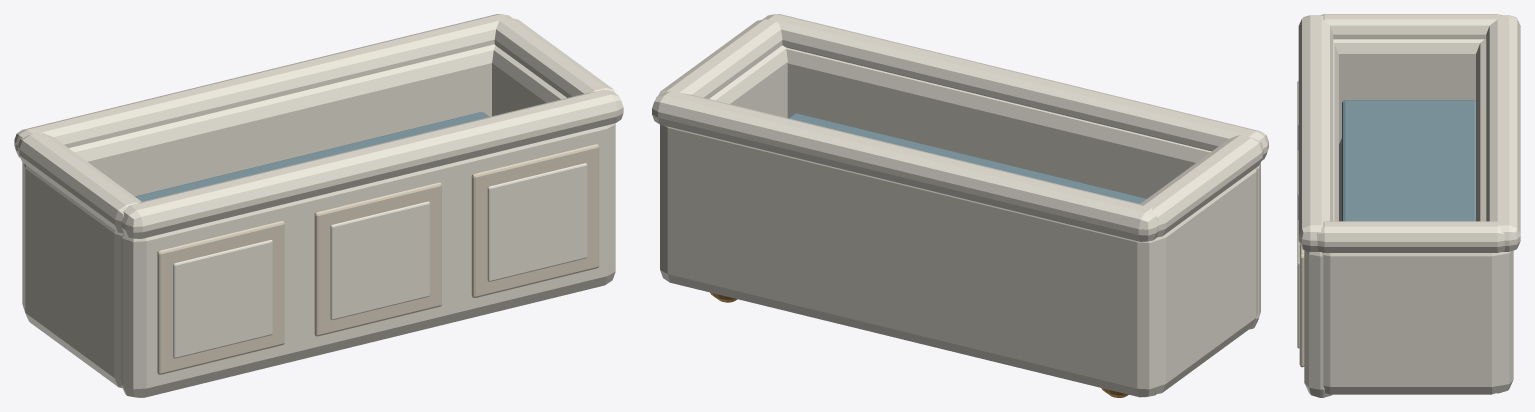
Rendered from bathroom_bathtub.glb.
3 renders of one model, left to right at view 1: azimuth 30°, elevation 25°; view 2: azimuth 150°, elevation 25°; view 3: azimuth 270°, elevation 25°, orthographic. The views are drawn at different scales.
Visible parts, largest first — view 1: bathroom_bathtub; view 2: bathroom_bathtub; view 3: bathroom_bathtub.
Boxes of the visible parts, bbox=[...] form: bathroom_bathtub: bbox=[14, 14, 623, 397]; bathroom_bathtub: bbox=[652, 14, 1268, 397]; bathroom_bathtub: bbox=[1297, 14, 1520, 397].
Size of the model in its own units: 1.82 by 0.71 by 0.775.
